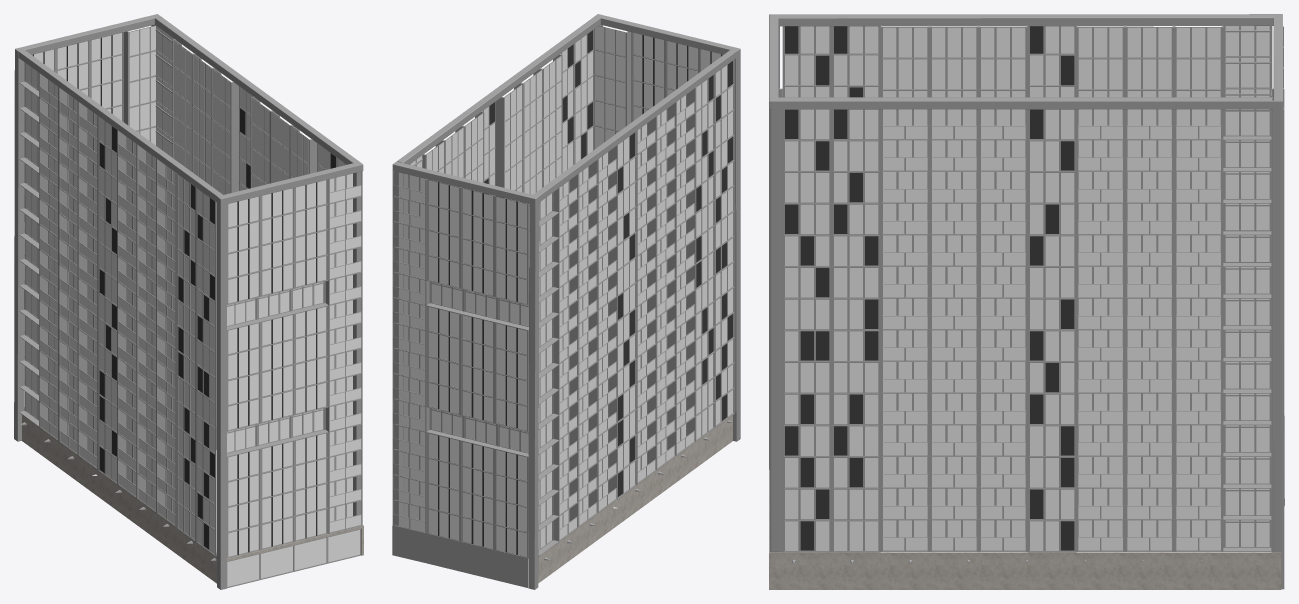
Rendered from realcity_04.gltf.
The picture shows the model from 3 angles, left to right: view 1: azimuth 30°, elevation 25°; view 2: azimuth 150°, elevation 25°; view 3: azimuth 270°, elevation 25°; orthographic projection. The views are drawn at different scales.
Parts seen in each view (by area): view 1: realcity_04; view 2: realcity_04; view 3: realcity_04.
Part boxes in pixels (<box>): realcity_04: <box>14,14,363,589</box>; realcity_04: <box>392,14,740,589</box>; realcity_04: <box>769,14,1284,589</box>.
Bounding box in the file's own units: 17.65 × 43.27 × 41.4.
Materials: 5 (1 with a texture image).
